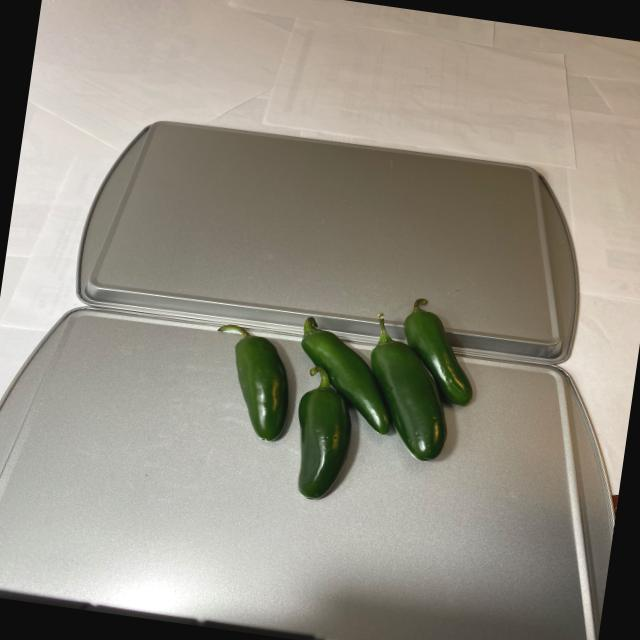chilli: (192, 266, 497, 522)
